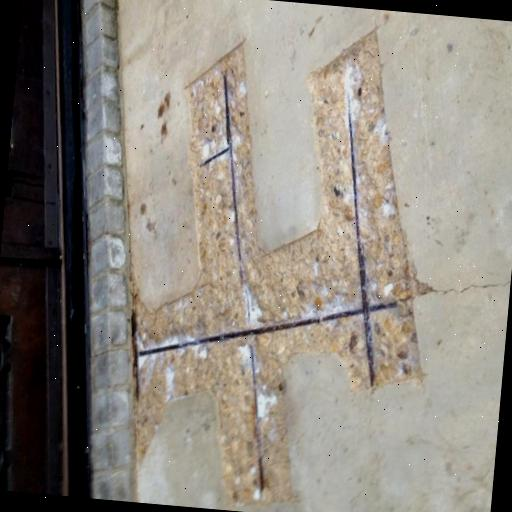spalling: (128, 35, 418, 502)
